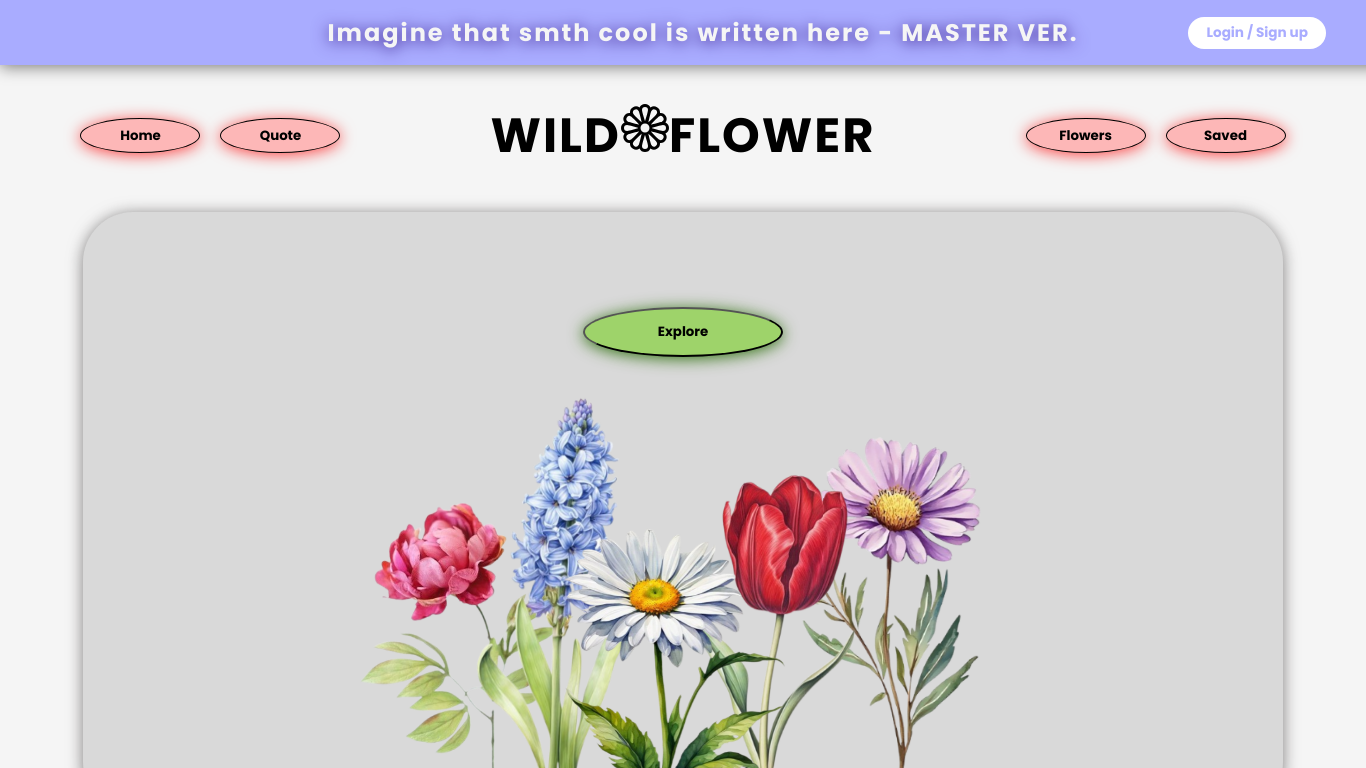
it: Wildflower App › closes flower modal when cancel is clicked
Click the button "Flowers". click: (1086, 136)
box: [1026,118,1146,153]
(page scrolled)
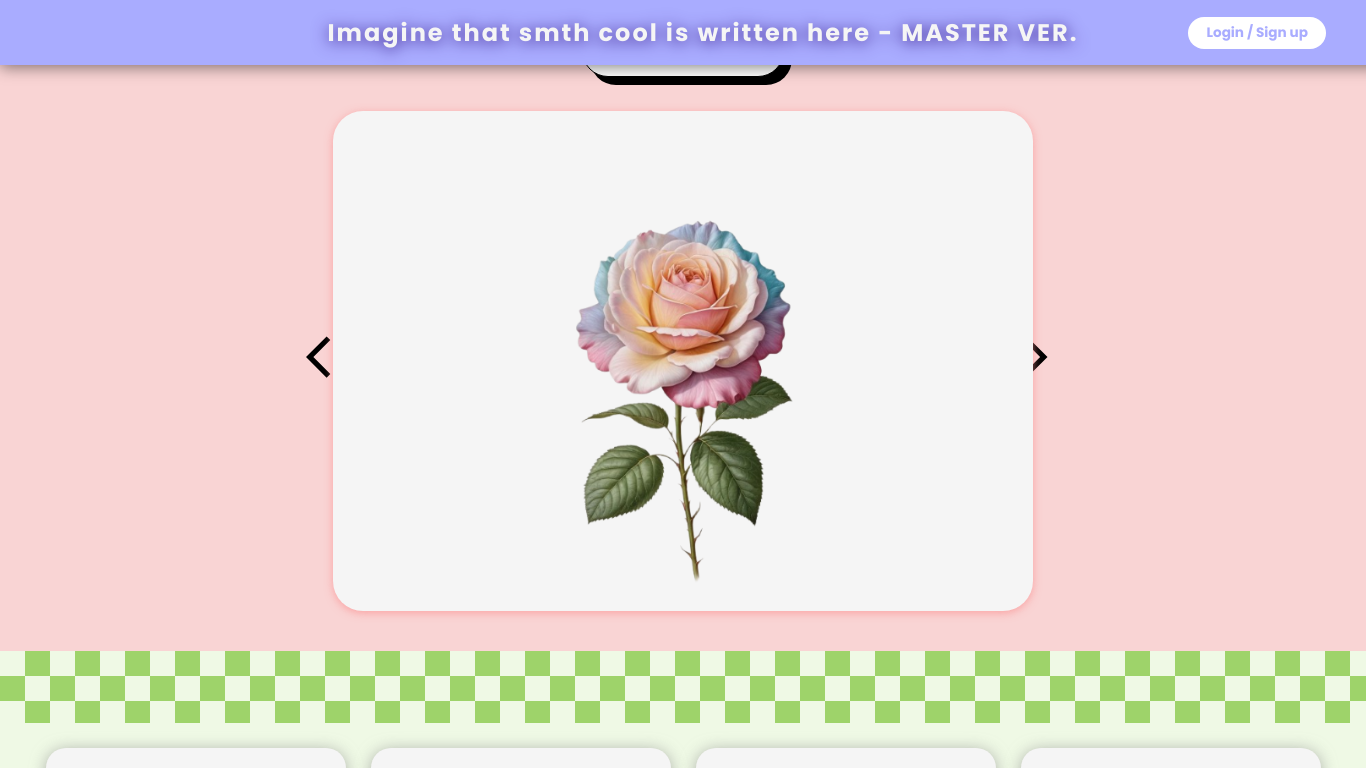
Click the element with class "flower-choosing-box". click: (683, 361)
box: [333,111,1033,611]
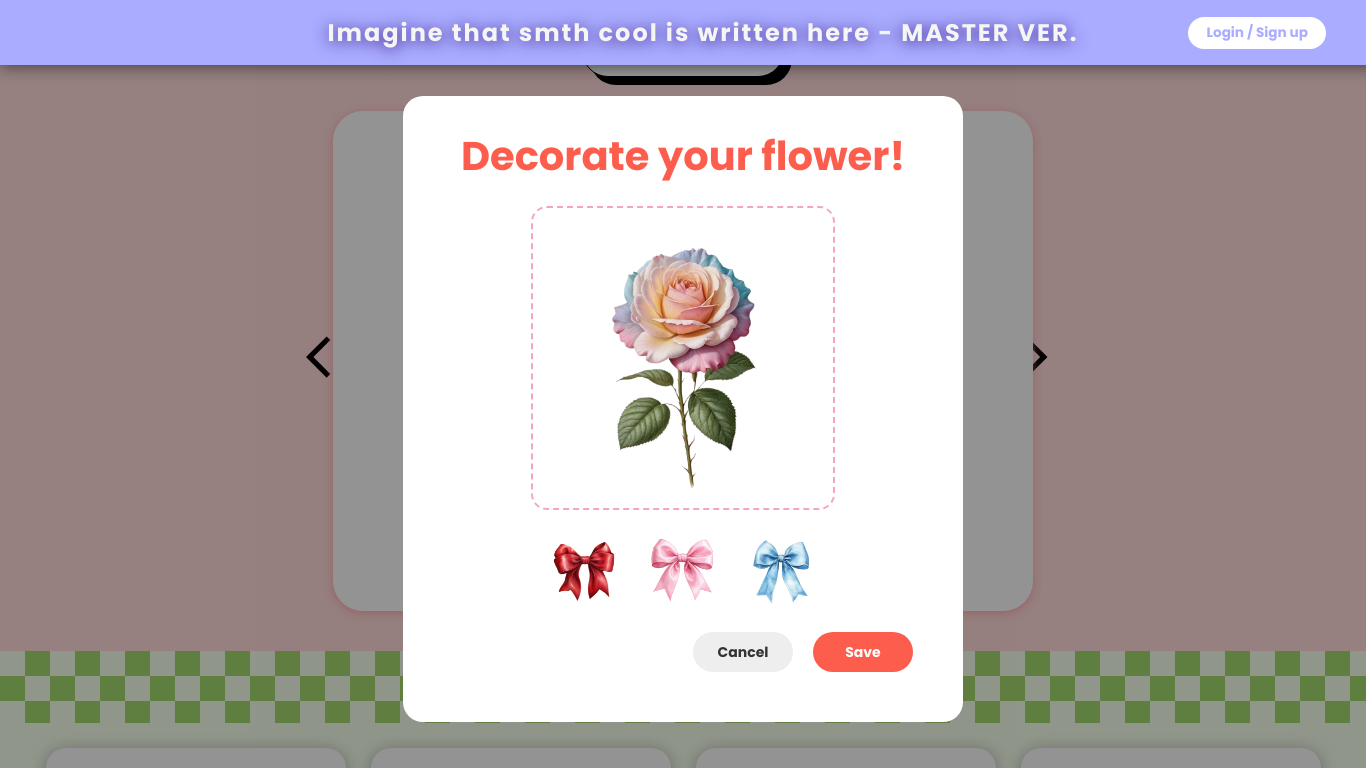
Click the button with class "close-btn". click: (743, 652)
box: [693,632,793,672]
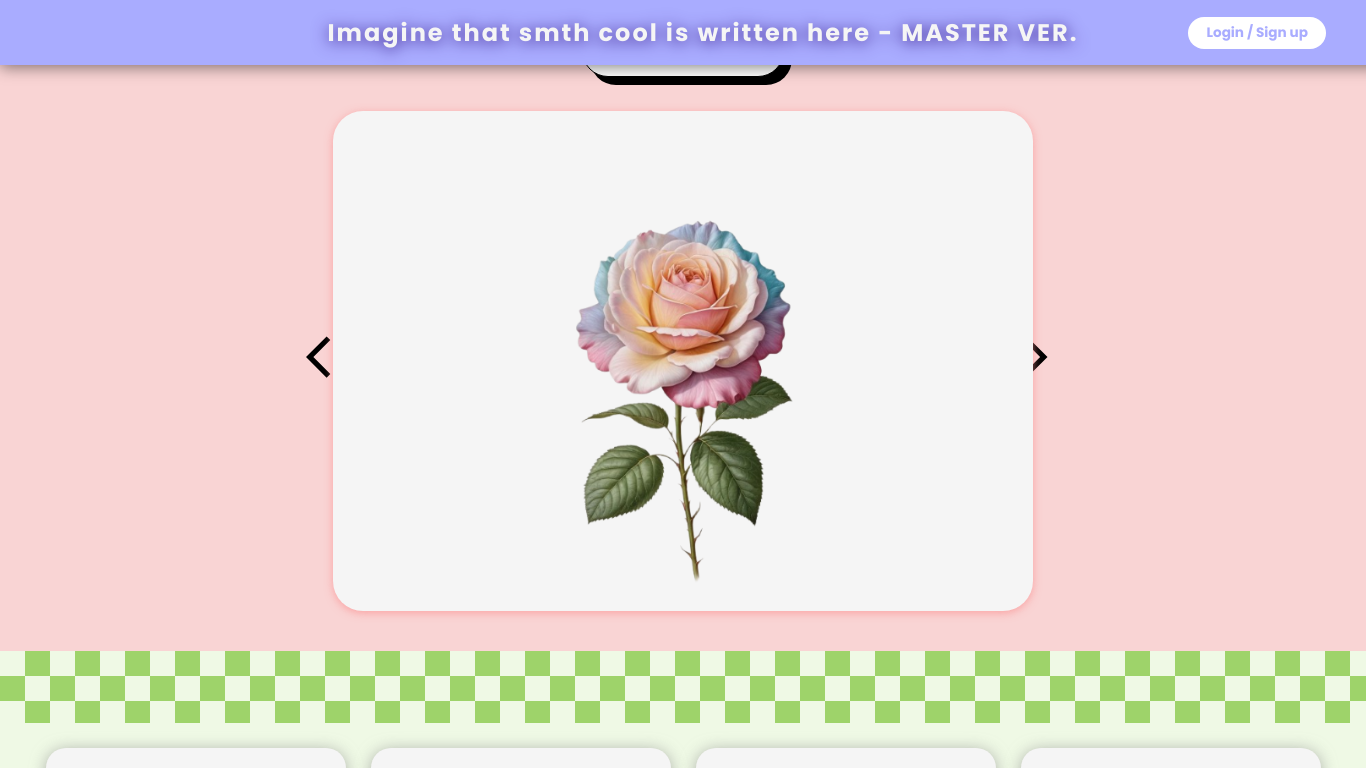
Check: the element with class "modal-content" is gone
